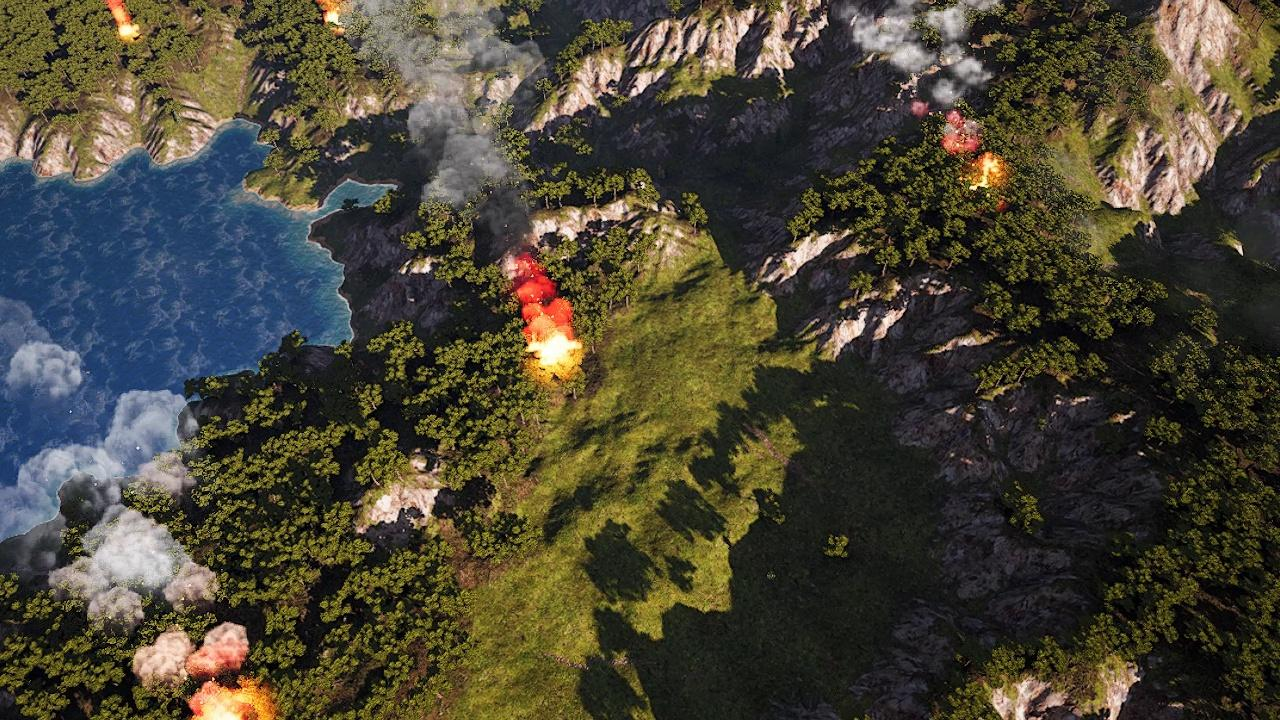fire: (188, 682, 265, 720), (528, 327, 583, 371), (112, 2, 141, 40), (973, 153, 1002, 187), (323, 1, 345, 28)
smoke: (0, 315, 251, 679), (319, 2, 559, 322), (828, 0, 1004, 147)
